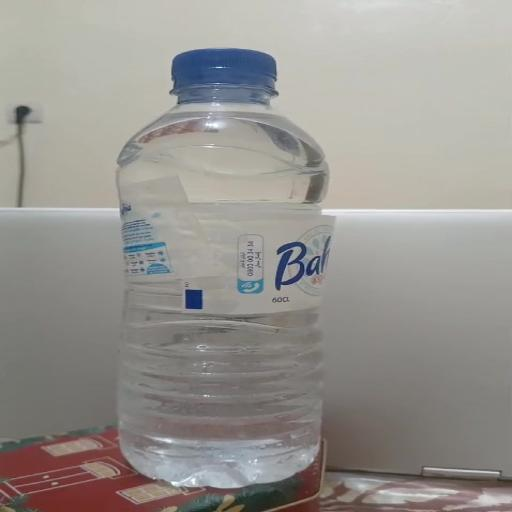bouteille conformite: (105, 27, 337, 482)
